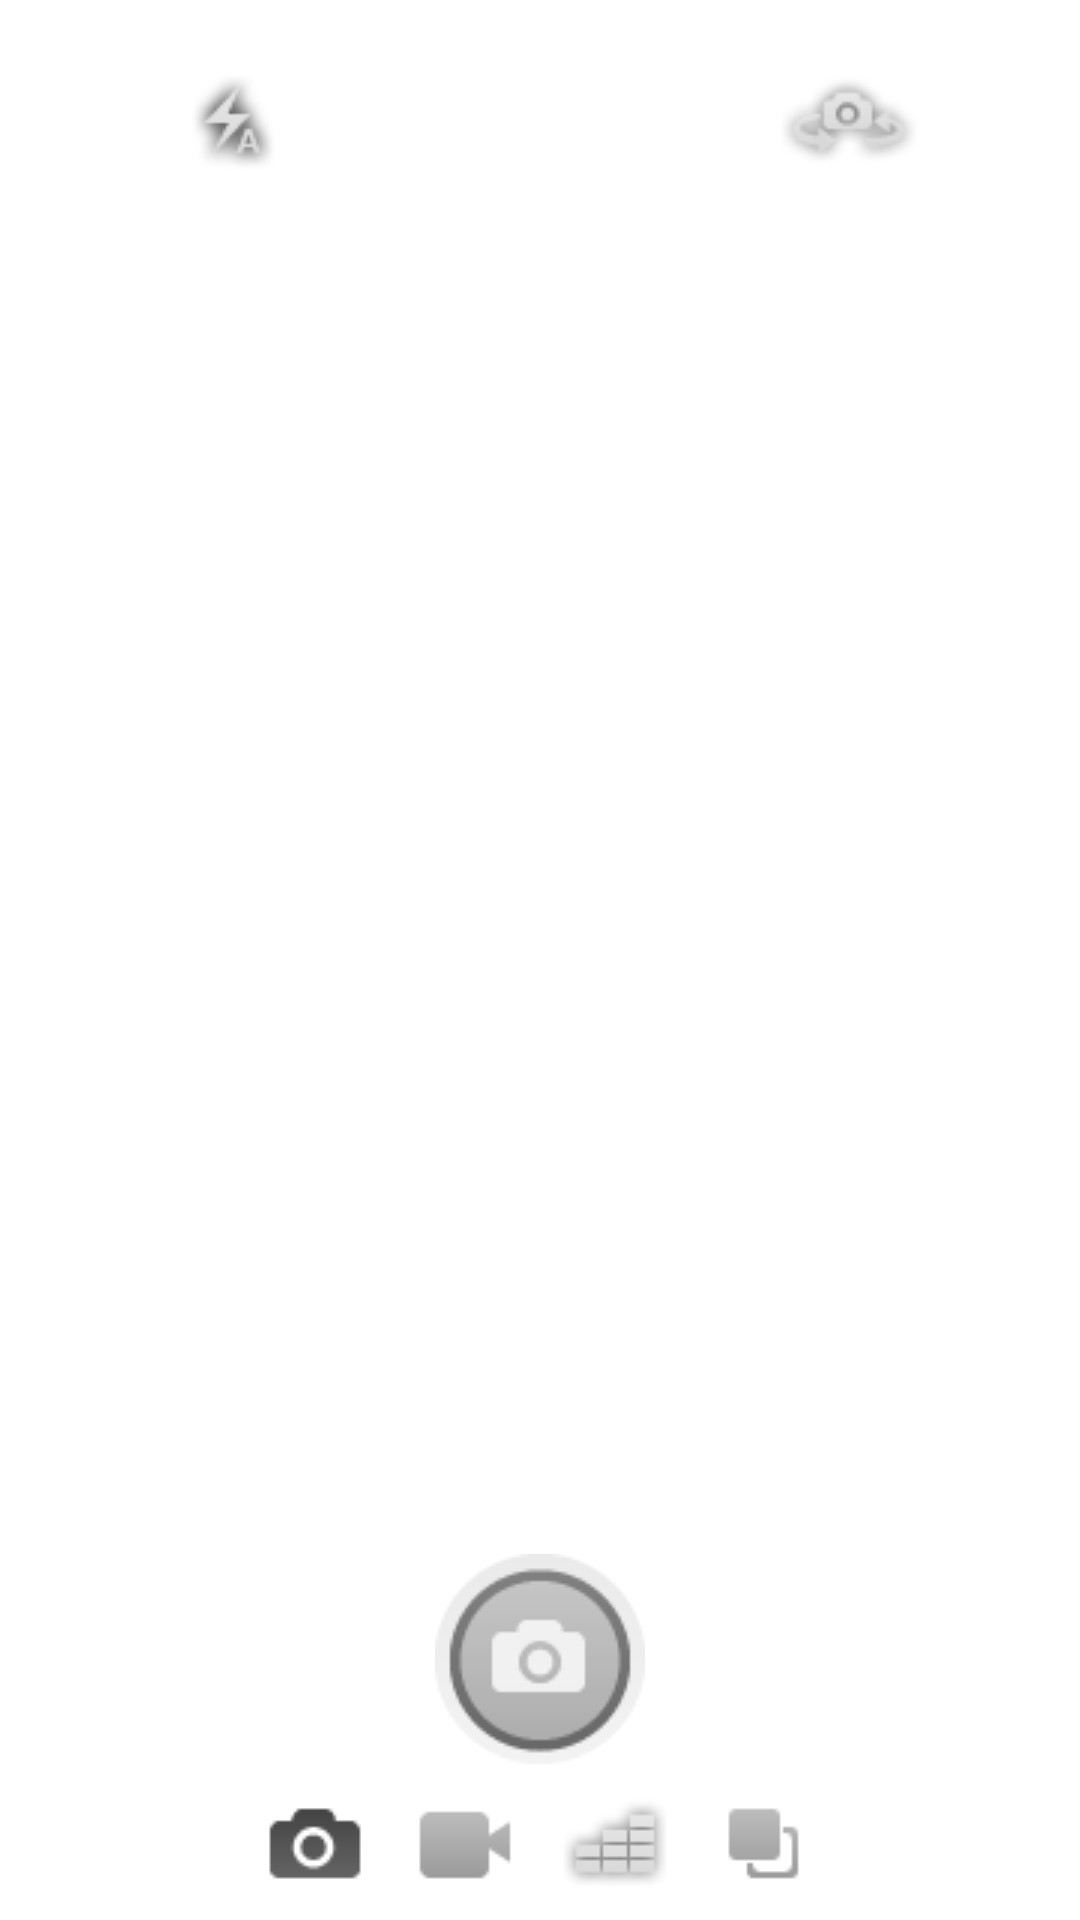

Icon bounding boxes for this 1080px x 1920px phone screenshot, format (x1, y1, x2, y2):
camera: (269, 1808, 361, 1879)
camera roll: (728, 1809, 799, 1879)
camera rotate: (789, 85, 908, 155)
camera take: (449, 1568, 631, 1753)
flash auto: (199, 83, 268, 162)
video: (419, 1812, 511, 1879)
